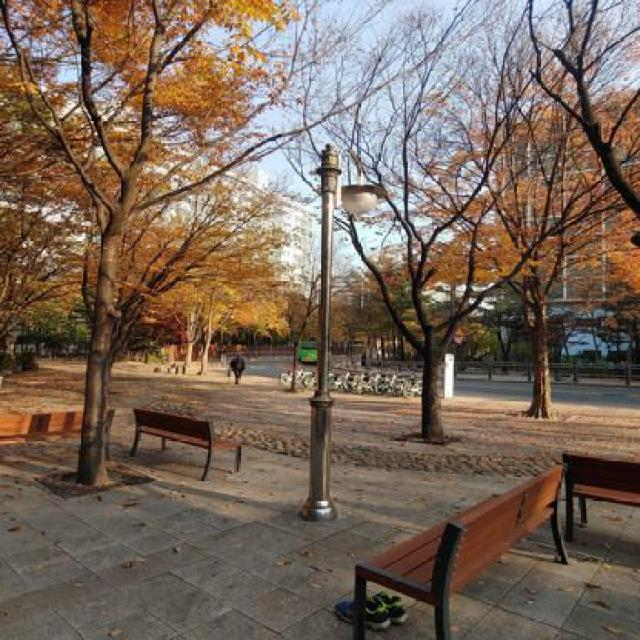pole: (292, 132, 350, 528)
